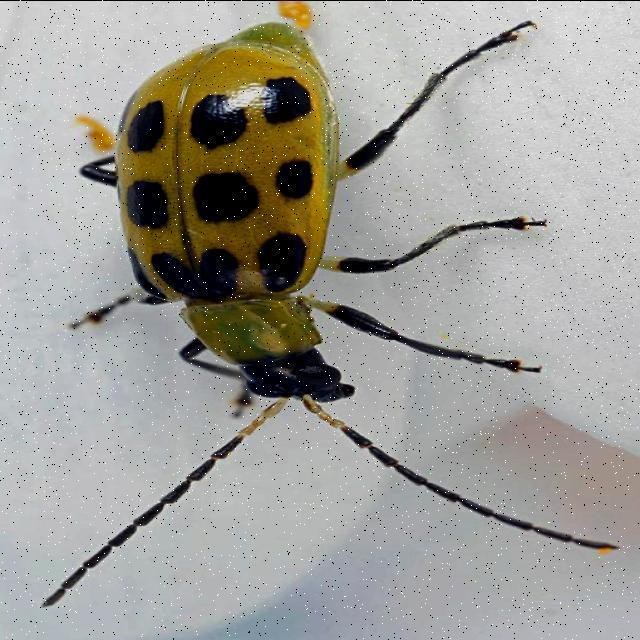gusano_verde: (35, 21, 619, 607)
